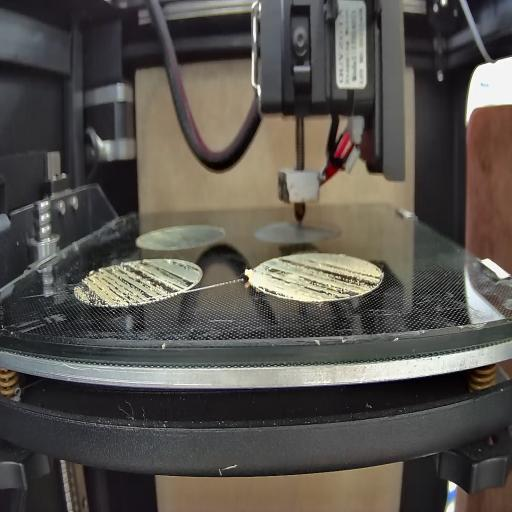under_extrusion: (78, 258, 200, 304), (260, 256, 381, 298)
